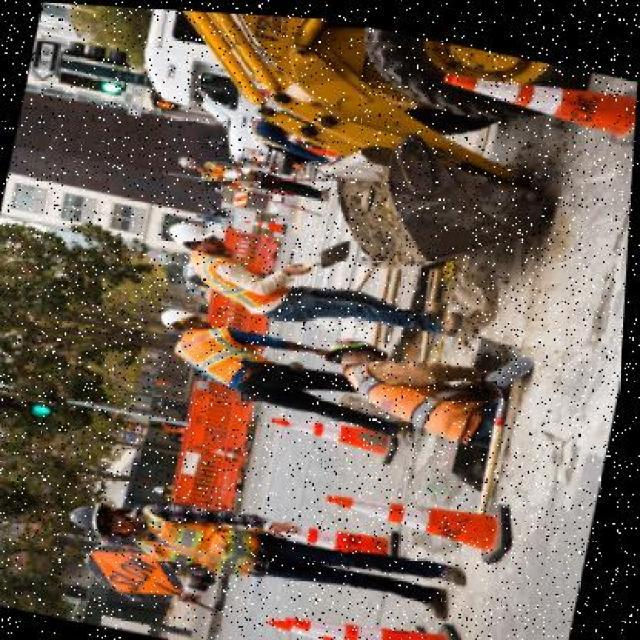helmet: (72, 493, 118, 538), (171, 216, 223, 243), (160, 298, 202, 328)
vest: (336, 352, 487, 434), (128, 502, 271, 574), (177, 241, 293, 307), (174, 323, 264, 375)
